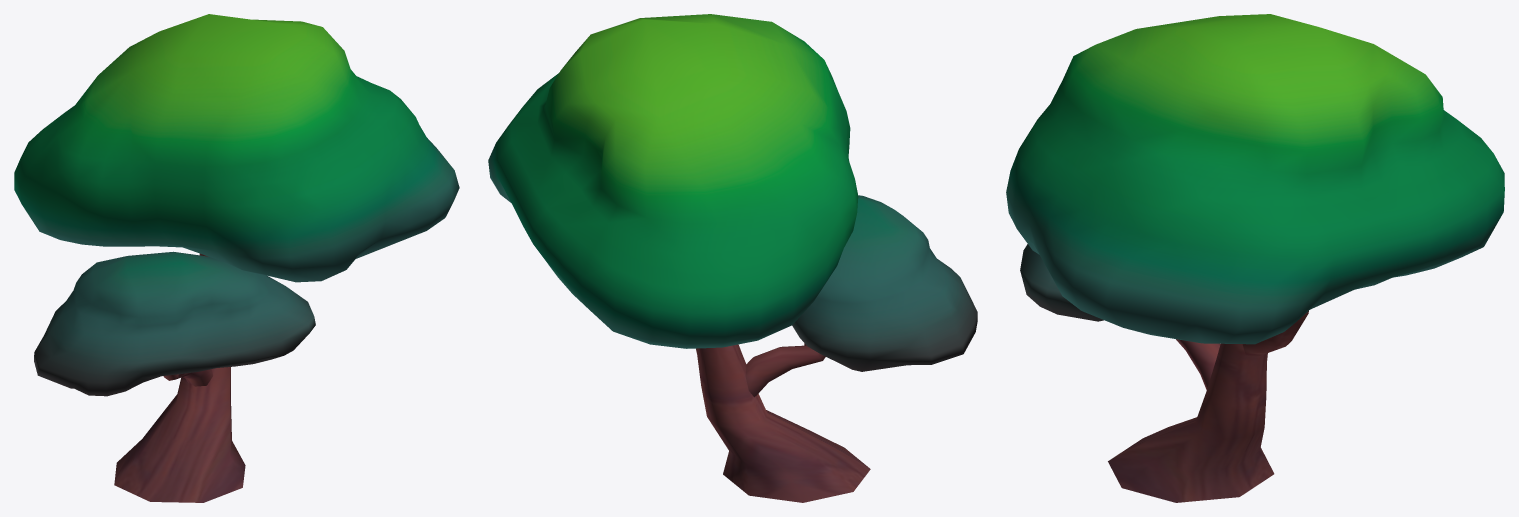
Rendered from arboles1.fbx.
3 views of the same model, side by side, from view 1: azimuth 30°, elevation 25°; view 2: azimuth 150°, elevation 25°; view 3: azimuth 270°, elevation 25° (orthographic). The views are drawn at different scales.
Parts seen in each view (by area): view 1: Tree.026_Base_Material_0.001; view 2: Tree.026_Base_Material_0.001; view 3: Tree.026_Base_Material_0.001.
Boxes of the visible parts, bbox=[...] form: Tree.026_Base_Material_0.001: bbox=[14, 14, 459, 502]; Tree.026_Base_Material_0.001: bbox=[488, 14, 977, 502]; Tree.026_Base_Material_0.001: bbox=[1006, 14, 1504, 502].
Bounding box in the file's own units: 754 × 710 × 649.
